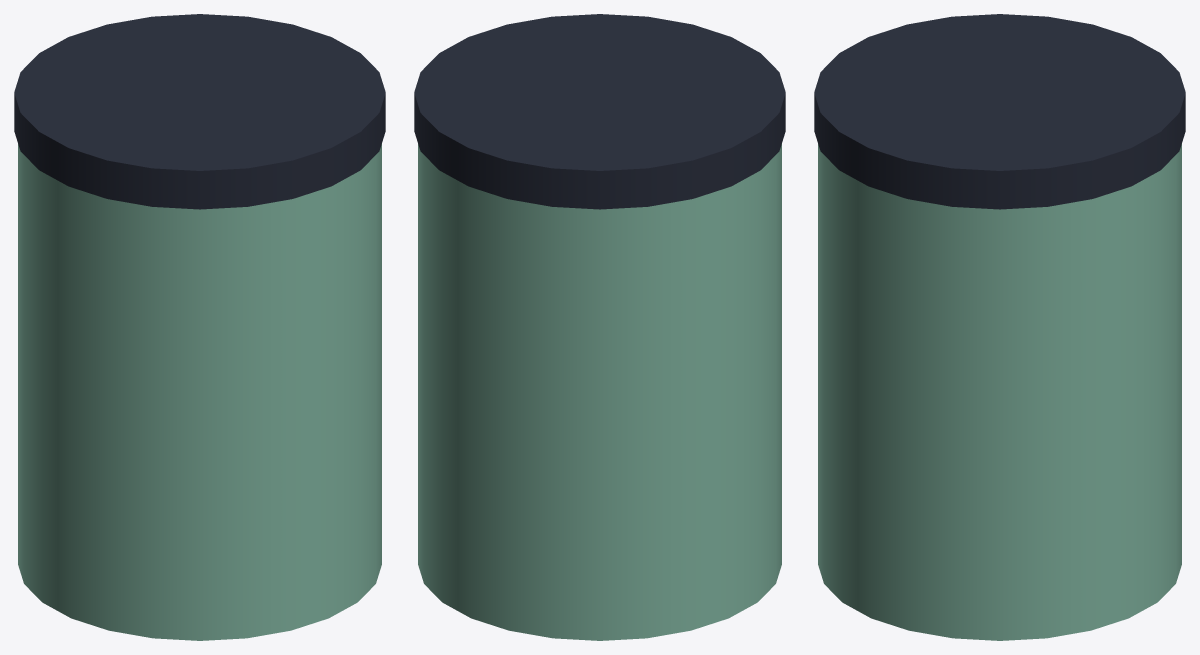
File: trash-bin.glb
The picture shows the model from 3 angles, left to right: view 1: azimuth 30°, elevation 25°; view 2: azimuth 150°, elevation 25°; view 3: azimuth 270°, elevation 25°; orthographic projection.
Parts seen in each view (by area): view 1: trash-bin; view 2: trash-bin; view 3: trash-bin.
Boxes of the visible parts, x1=… form: trash-bin: x1=14, y1=14, x2=385, y2=640; trash-bin: x1=414, y1=14, x2=785, y2=640; trash-bin: x1=814, y1=14, x2=1185, y2=640.
Bounding box in the file's own units: 25 × 35 × 25.
